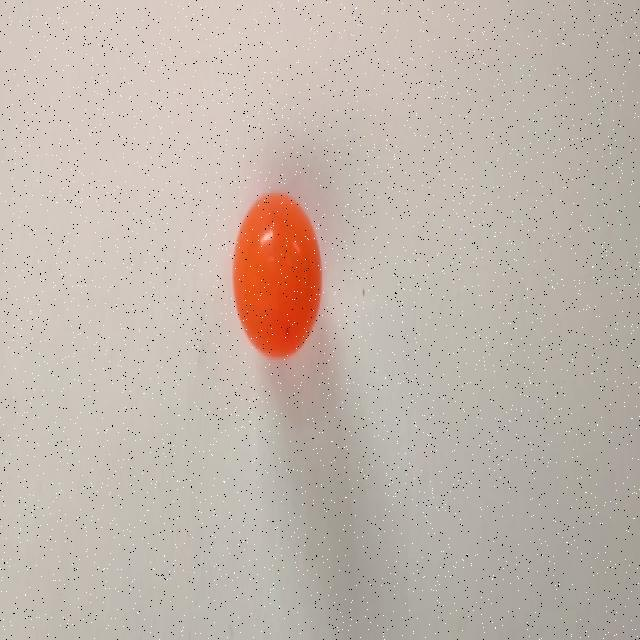red: (231, 191, 323, 359)
